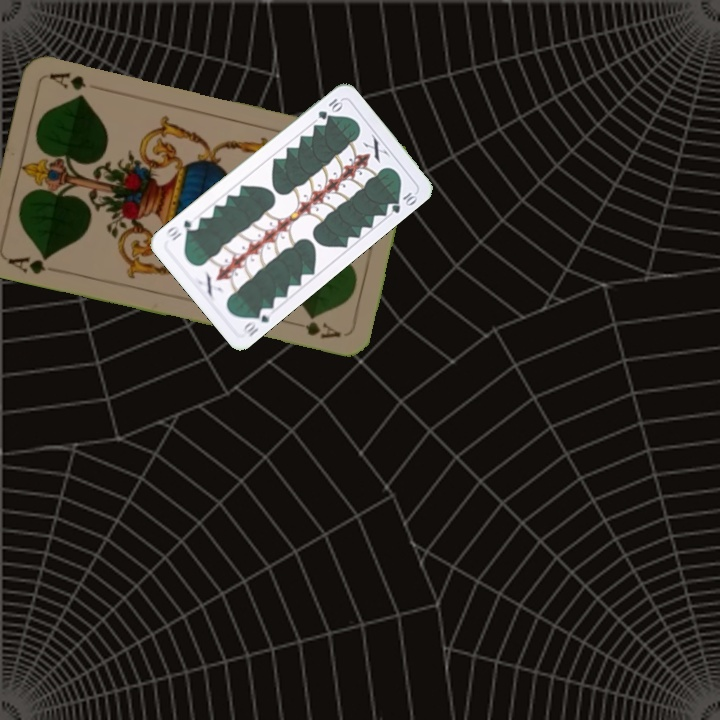G10: (239, 303, 275, 339), (314, 94, 345, 122)
GA: (4, 251, 53, 277)
